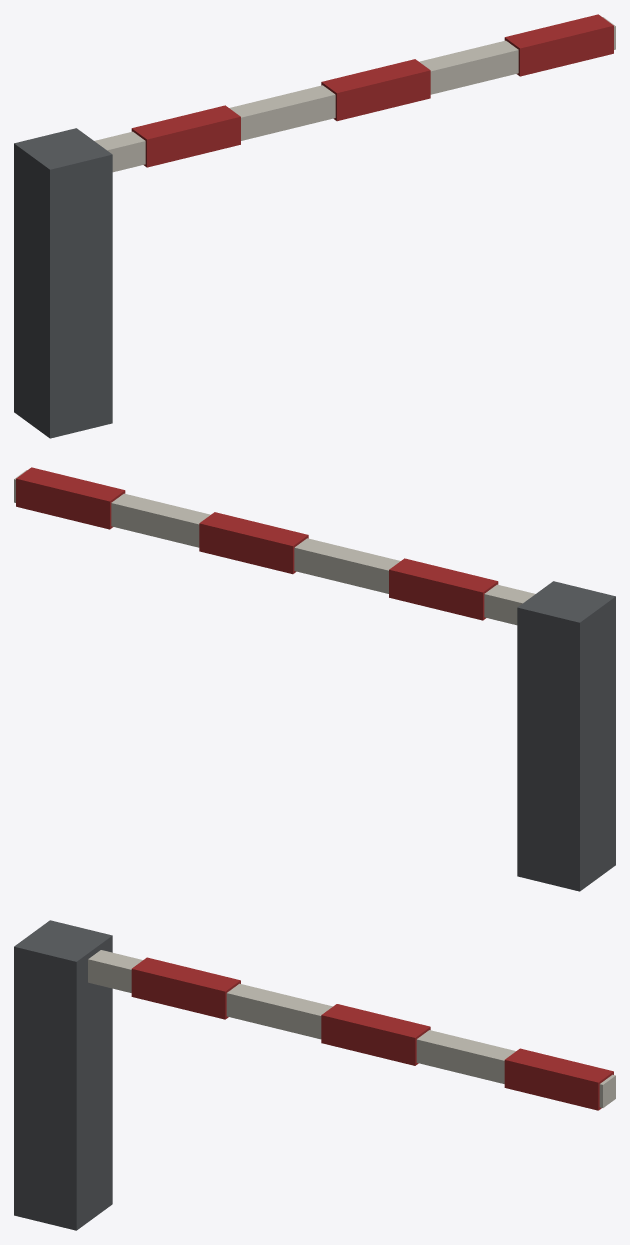
The model's file is barrier-lift.glb.
3 views of the same model, one above another, from view 1: azimuth 30°, elevation 25°; view 2: azimuth 150°, elevation 25°; view 3: azimuth 330°, elevation 25° (orthographic).
Size of the model in its own units: 2.58 by 1.15 by 0.28.
